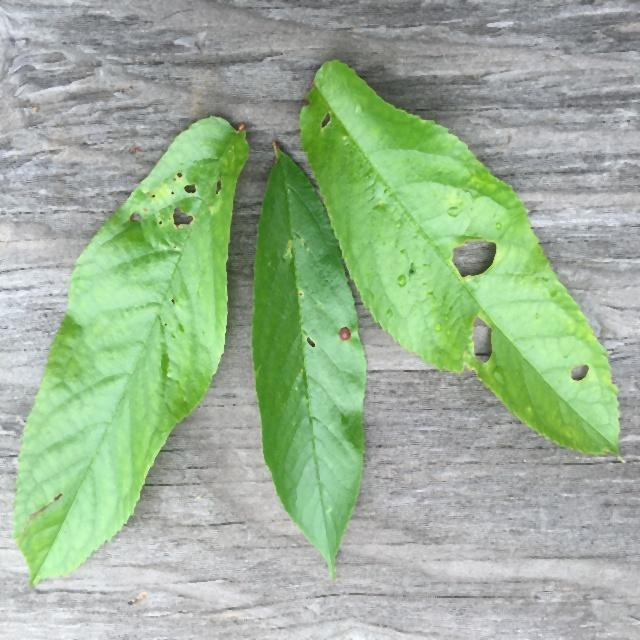shot_hole: (323, 39, 640, 421), (56, 112, 235, 588)
